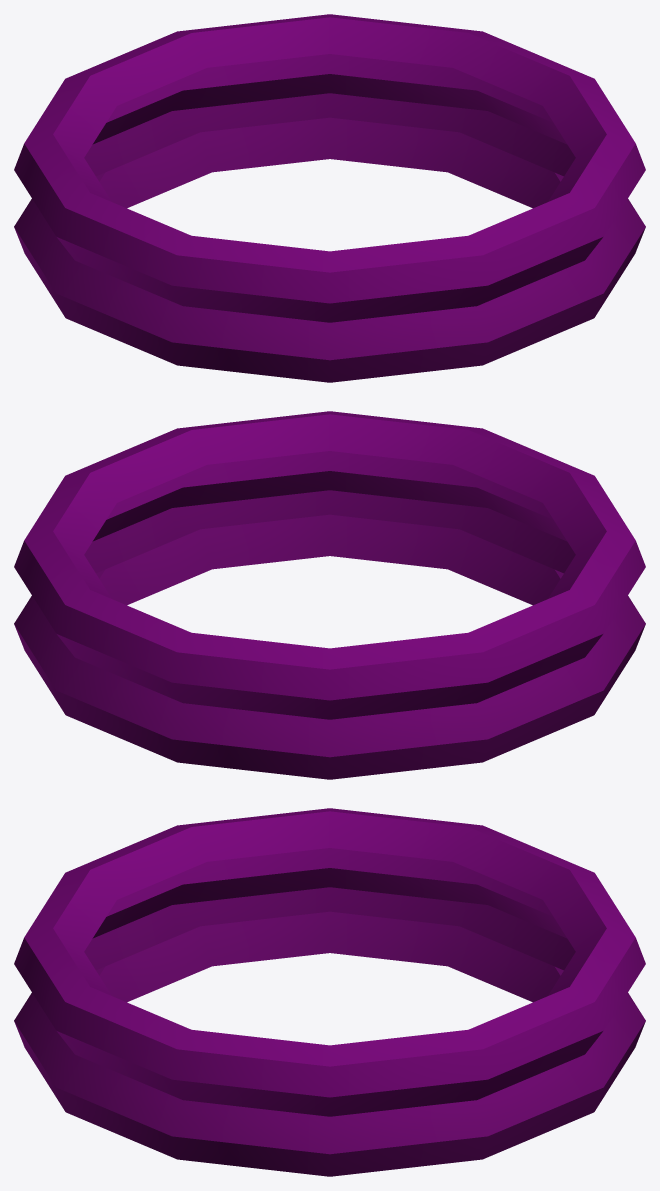
Rendered from Body_Prop_Neck_01.fbx.
3 renders of one model, top to bottom at view 1: azimuth 30°, elevation 25°; view 2: azimuth 150°, elevation 25°; view 3: azimuth 270°, elevation 25°, orthographic.
Visible parts, largest first — view 1: Body_Prop_Neck_01; view 2: Body_Prop_Neck_01; view 3: Body_Prop_Neck_01.
Part boxes in pixels (<box>): Body_Prop_Neck_01: <box>14,14,645,382</box>; Body_Prop_Neck_01: <box>14,411,645,779</box>; Body_Prop_Neck_01: <box>14,808,645,1176</box>.
Size of the model in its own units: 121 by 26.23 by 121.
